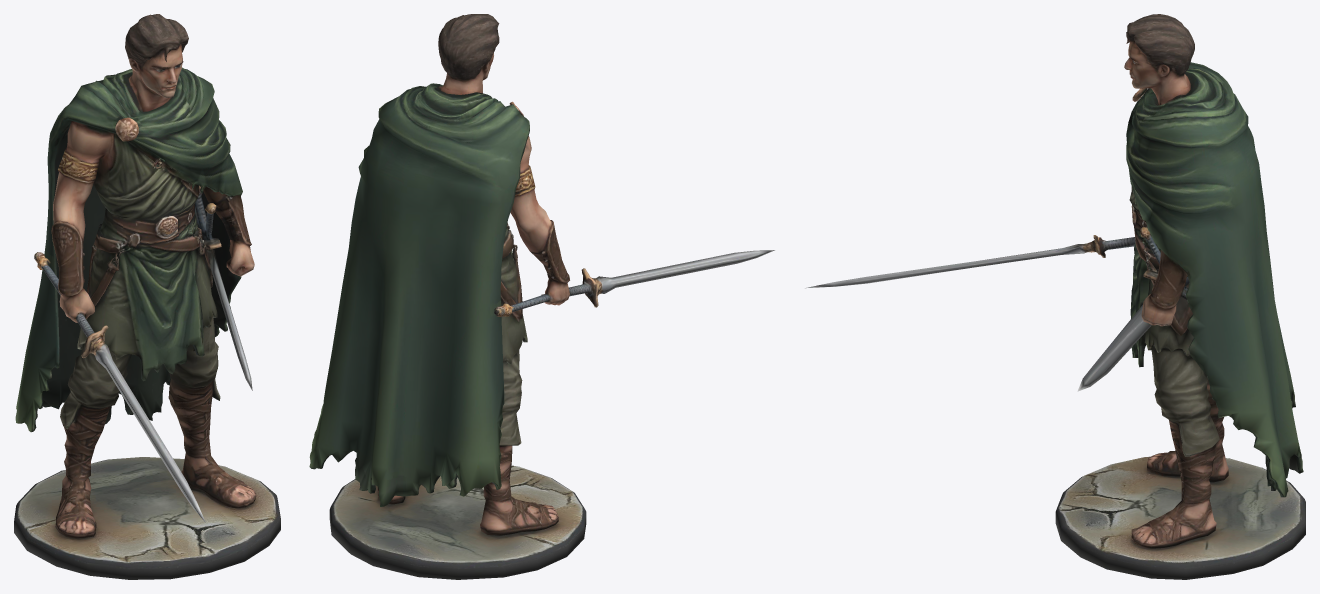
File: fighter_alt2_male.glb
3 views of the same model, side by side, from view 1: azimuth 30°, elevation 25°; view 2: azimuth 150°, elevation 25°; view 3: azimuth 270°, elevation 25° (orthographic). The views are drawn at different scales.
Visible parts, largest first — view 1: tripo_node_b262d31f-5f79-4a3e-bceb-aae6248d5320; view 2: tripo_node_b262d31f-5f79-4a3e-bceb-aae6248d5320; view 3: tripo_node_b262d31f-5f79-4a3e-bceb-aae6248d5320.
Part boxes in pixels (x1=…): tripo_node_b262d31f-5f79-4a3e-bceb-aae6248d5320: x1=14, y1=14, x2=280, y2=579; tripo_node_b262d31f-5f79-4a3e-bceb-aae6248d5320: x1=309, y1=14, x2=774, y2=579; tripo_node_b262d31f-5f79-4a3e-bceb-aae6248d5320: x1=805, y1=14, x2=1305, y2=579.
Size of the model in its own units: 0.5098 by 0.998 by 0.9004.
1 material, 1 textured.
